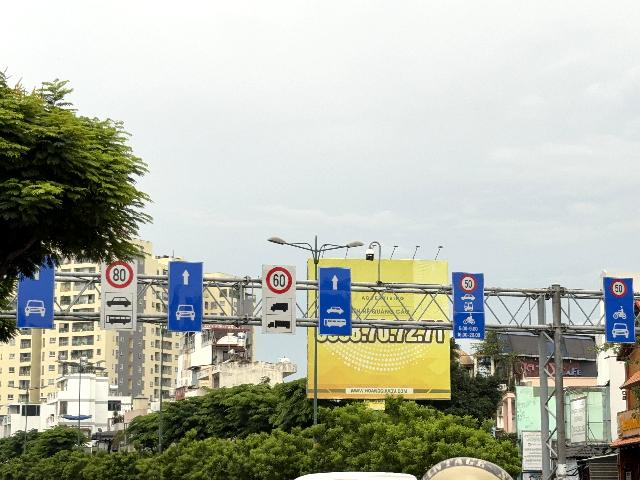toc-do-toi-da-cho-phep: (105, 260, 133, 288), (266, 267, 293, 294), (460, 274, 478, 293), (610, 279, 628, 297)
